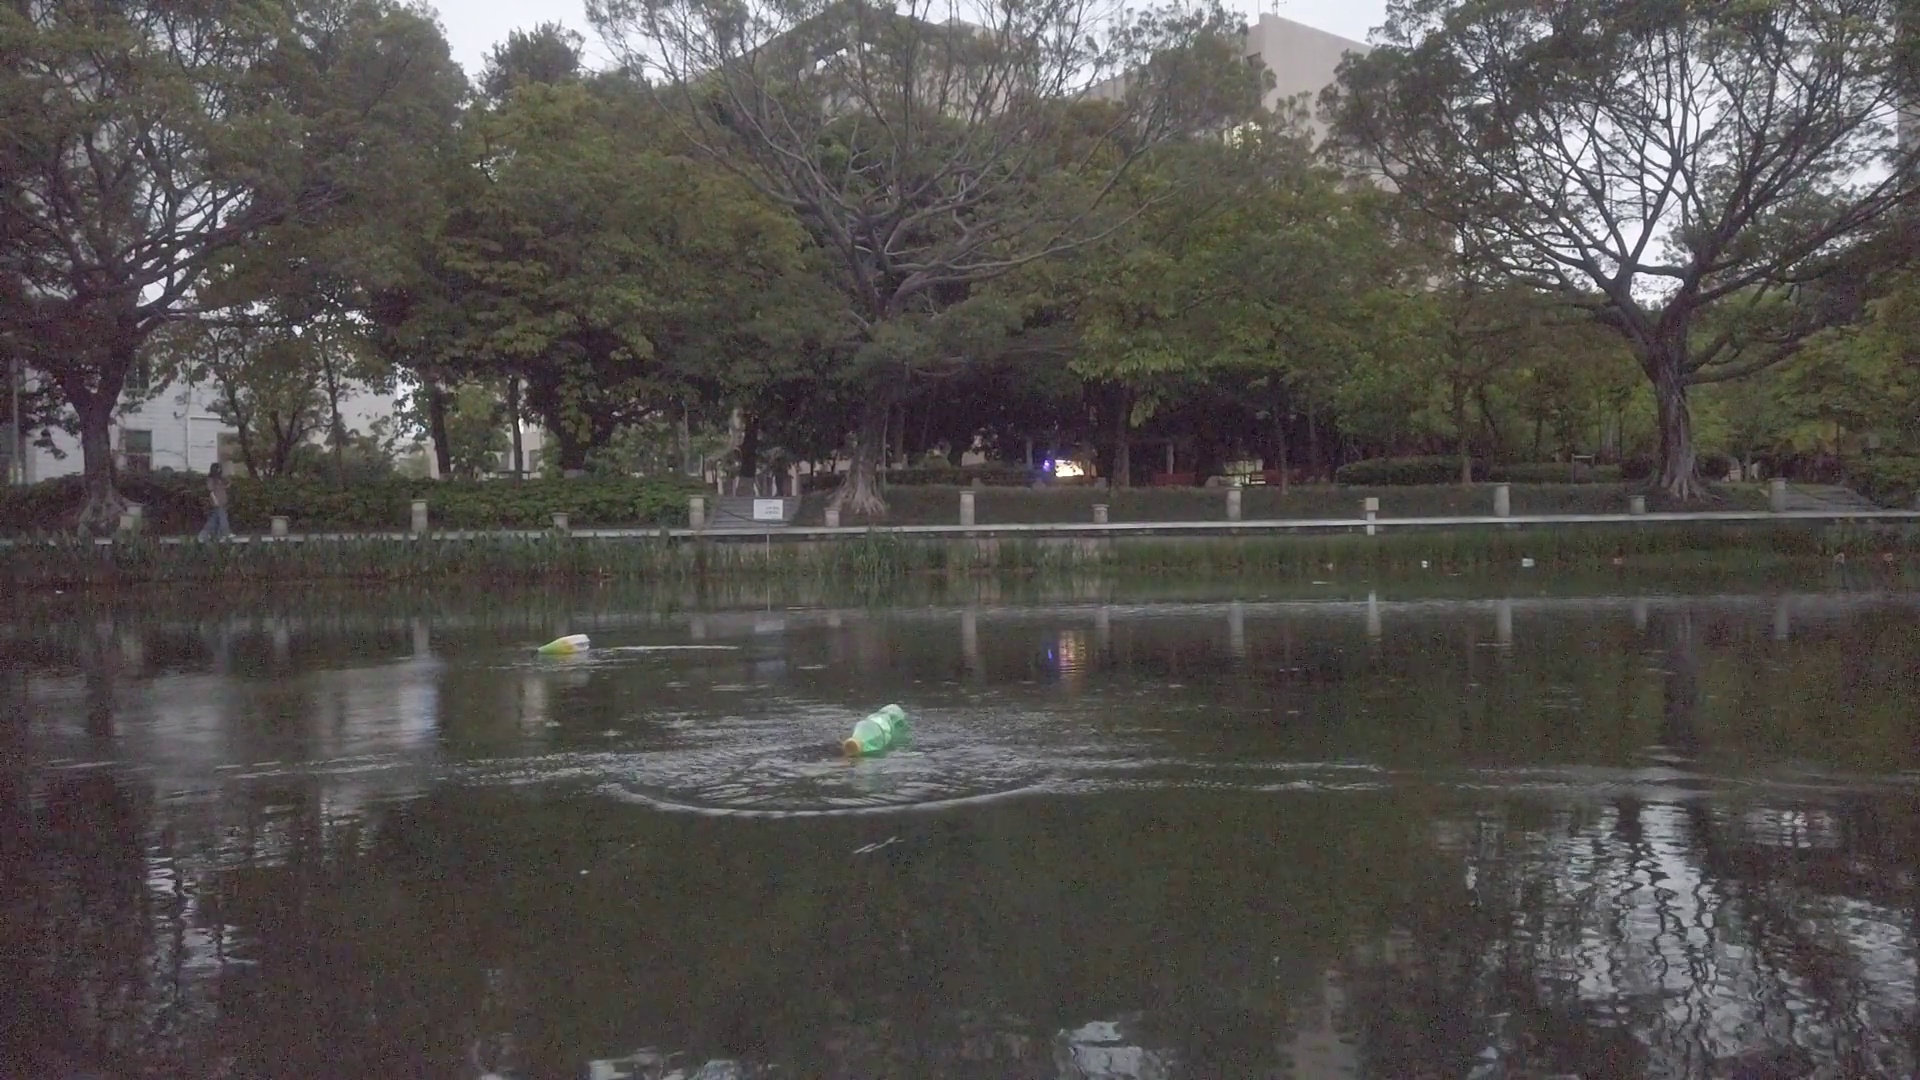bottle: (843, 702, 911, 758), (527, 629, 592, 657), (1882, 549, 1898, 568), (1610, 554, 1626, 568), (1833, 551, 1846, 562)
carton: (1520, 551, 1540, 567)
